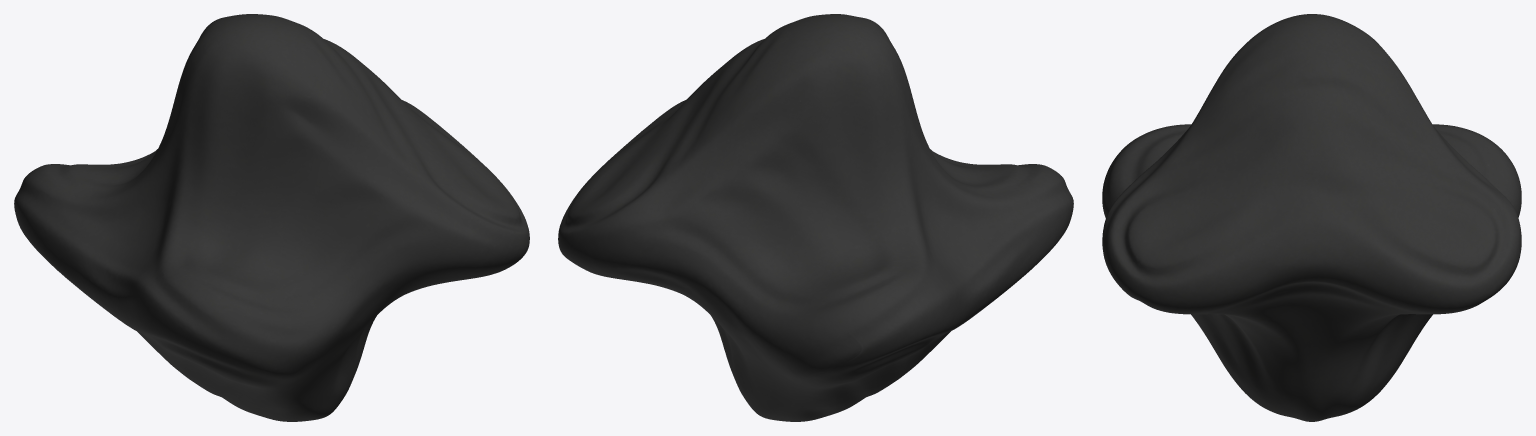
File: sculpture.glb
The picture shows the model from 3 angles, left to right: view 1: azimuth 30°, elevation 25°; view 2: azimuth 150°, elevation 25°; view 3: azimuth 270°, elevation 25°; orthographic projection. The views are drawn at different scales.
Bounding box in the file's own units: 1.79 × 1.87 × 1.9.
Materials: 1 (1 with a texture image).
